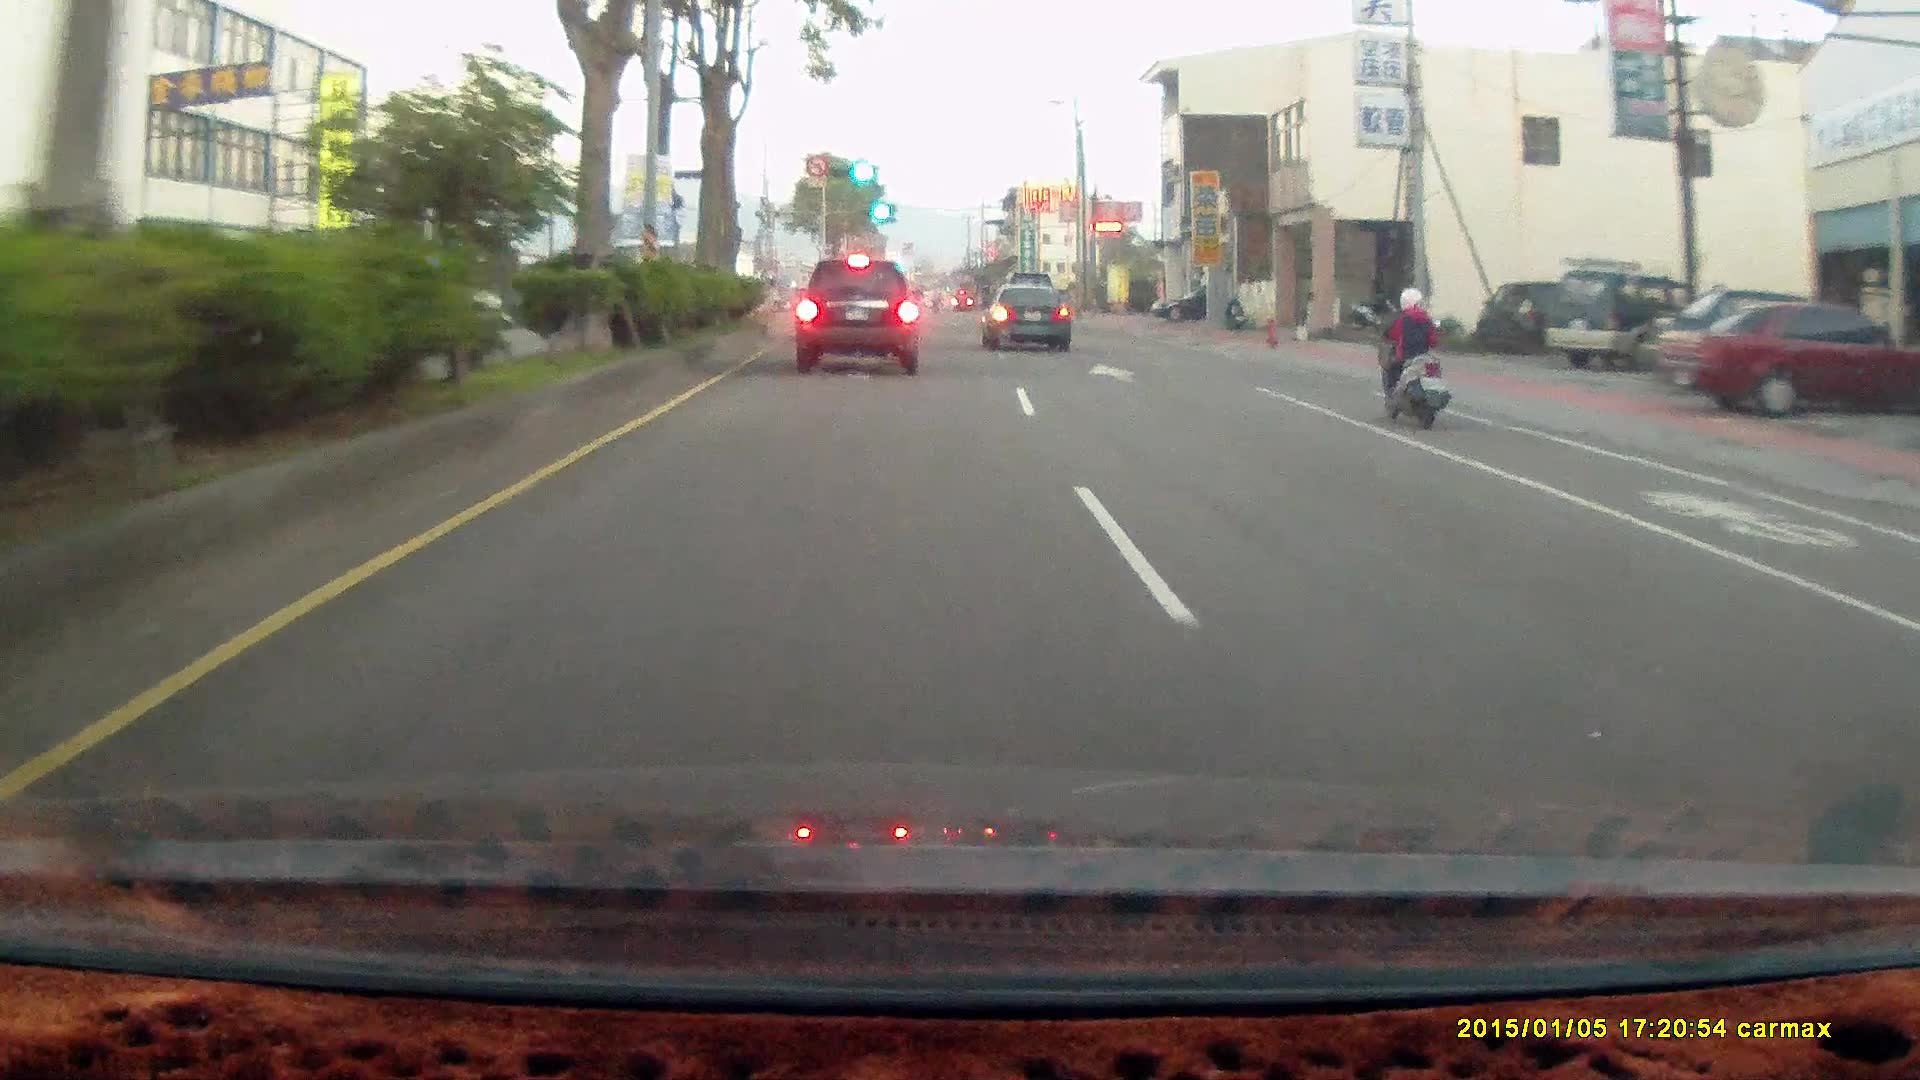rider: (1359, 275, 1463, 442), (1373, 282, 1450, 425)
vehicle: (1657, 297, 1920, 420), (1654, 299, 1920, 418), (1541, 266, 1701, 373), (1540, 267, 1704, 371), (793, 258, 922, 373), (799, 254, 924, 372), (1475, 281, 1576, 352), (982, 285, 1075, 351), (982, 281, 1071, 349), (1149, 287, 1241, 321), (1149, 288, 1208, 326)
